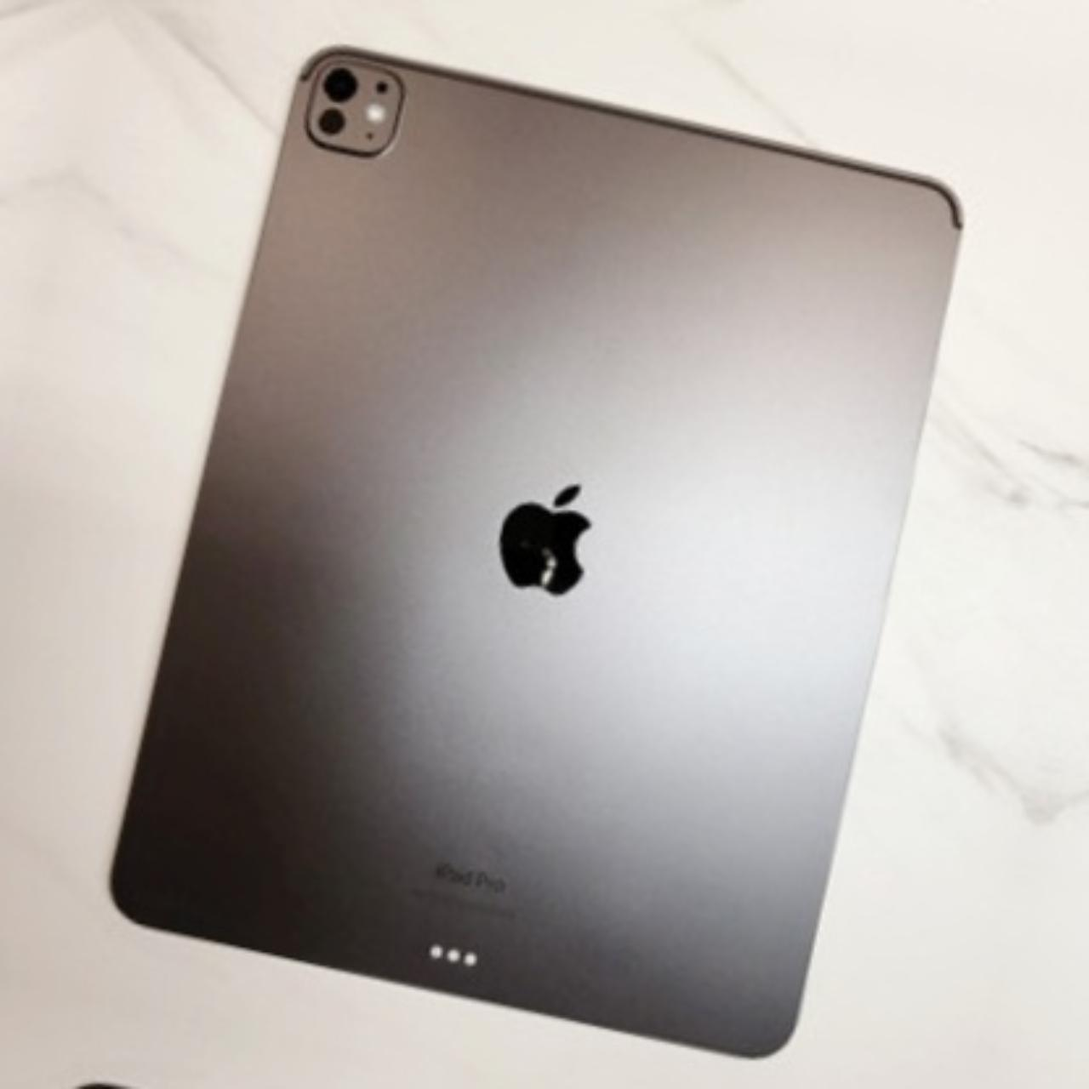Tablet_PC: (88, 16, 1015, 1076)
